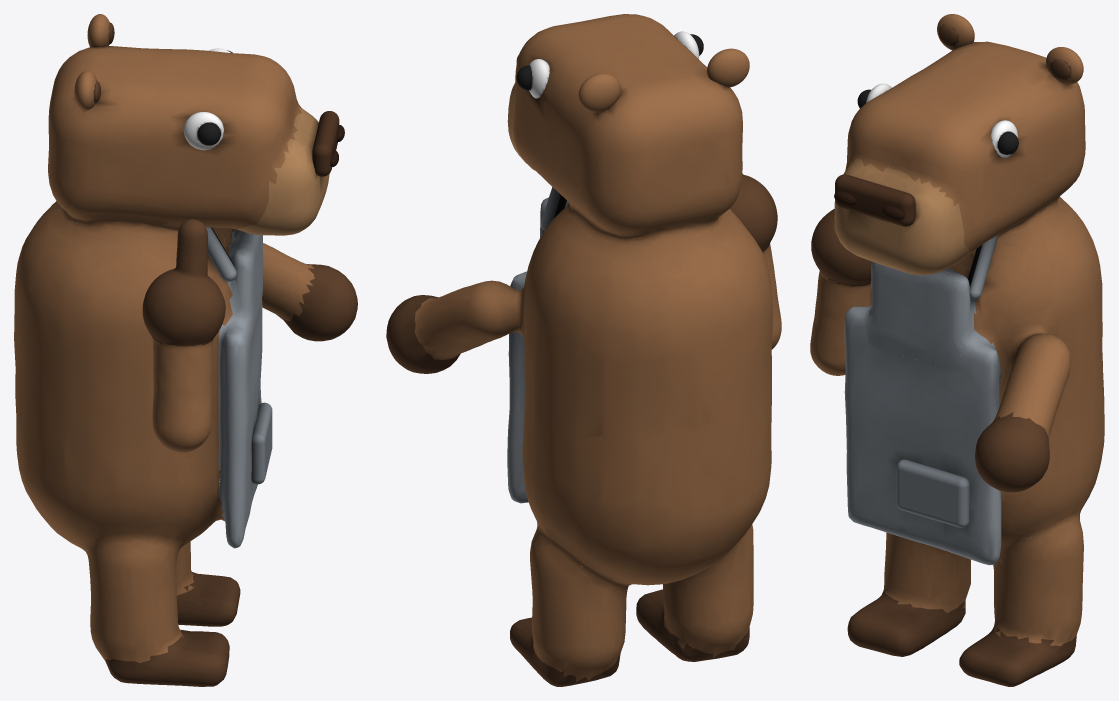
Rendered from ja-precis-det-tycker-jag-ocksa.glb.
3 renders of one model, left to right at view 1: azimuth 30°, elevation 25°; view 2: azimuth 150°, elevation 25°; view 3: azimuth 270°, elevation 25°, orthographic. The views are drawn at different scales.
Visible parts, largest first — view 1: capivara__r0, polegar__r0, capivara__r12, capivara__r1, capivara__r13, capivara__r3, capivara__r5, capivara__r10; view 2: capivara__r0, polegar__r0, capivara__r10, capivara__r5, capivara__r8; view 3: capivara__r0, polegar__r0, capivara__r12, capivara__r1, capivara__r14, capivara__r10, capivara__r5, capivara__r8.
Boxes of the visible parts, left/top/right/bottom form: capivara__r0: left=14, top=46, right=357, bottom=686; polegar__r0: left=142, top=219, right=225, bottom=452; capivara__r12: left=251, top=402, right=272, bottom=484; capivara__r1: left=312, top=111, right=339, bottom=176; capivara__r13: left=206, top=227, right=236, bottom=281; capivara__r3: left=183, top=112, right=223, bottom=150; capivara__r5: left=74, top=70, right=97, bottom=110; capivara__r10: left=87, top=14, right=109, bottom=47; capivara__r0: left=386, top=14, right=772, bottom=686; polegar__r0: left=729, top=173, right=781, bottom=349; capivara__r10: left=578, top=73, right=621, bottom=112; capivara__r5: left=707, top=48, right=749, bottom=87; capivara__r8: left=529, top=59, right=549, bottom=98; capivara__r0: left=834, top=41, right=1104, bottom=686; polegar__r0: left=810, top=209, right=871, bottom=375; capivara__r12: left=896, top=459, right=969, bottom=527; capivara__r1: left=835, top=174, right=915, bottom=226; capivara__r14: left=968, top=235, right=998, bottom=300; capivara__r10: left=1046, top=47, right=1083, bottom=84; capivara__r5: left=937, top=14, right=974, bottom=50; capivara__r8: left=991, top=120, right=1017, bottom=157.
Size of the model in its own units: 1.09 by 1.87 by 0.8377.
